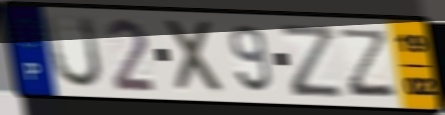2: (102, 14, 159, 93)
9: (227, 23, 274, 95)
U: (42, 12, 105, 91)
X: (162, 16, 228, 96)
Z: (277, 21, 346, 100), (339, 26, 398, 99)
